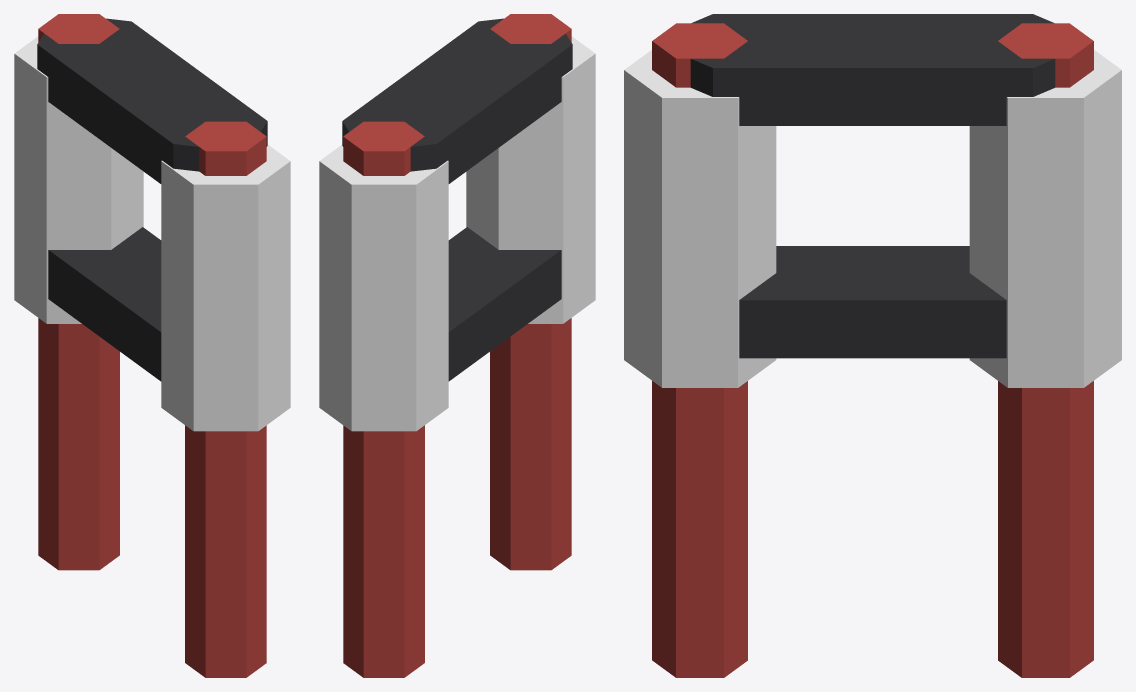
The model's file is cruiser_black_glide_upper_lod2.glb.
The picture shows the model from 3 angles, left to right: view 1: azimuth 30°, elevation 25°; view 2: azimuth 150°, elevation 25°; view 3: azimuth 270°, elevation 25°; orthographic projection. The views are drawn at different scales.
Visible parts, largest first — view 1: cruiser_black_glide_upper_lod2; view 2: cruiser_black_glide_upper_lod2; view 3: cruiser_black_glide_upper_lod2.
Part boxes in pixels (box(x1,y1,x2,y2)): cruiser_black_glide_upper_lod2: box(14, 14, 290, 677); cruiser_black_glide_upper_lod2: box(319, 14, 595, 677); cruiser_black_glide_upper_lod2: box(624, 14, 1121, 677).
Size of the model in its own units: 0.0823 by 0.427 by 0.311.
